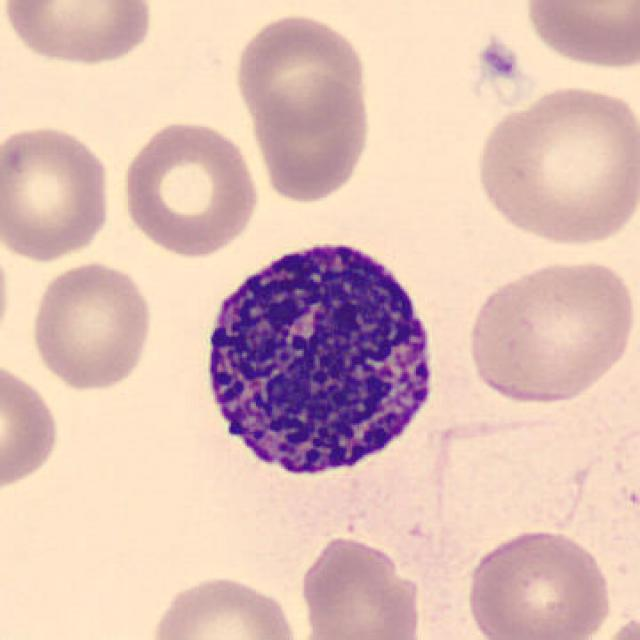Basophil: (192, 226, 448, 492)
Platelets: (474, 37, 522, 81)
RBC: (470, 80, 638, 250), (462, 254, 638, 407), (418, 402, 602, 548), (116, 116, 263, 260), (243, 70, 377, 204), (231, 9, 372, 136), (462, 525, 615, 640), (27, 257, 156, 393), (0, 119, 117, 264), (295, 532, 423, 638), (2, 0, 158, 69), (146, 571, 300, 640), (0, 356, 64, 496), (517, 0, 640, 71), (0, 231, 14, 358), (590, 610, 640, 640)
